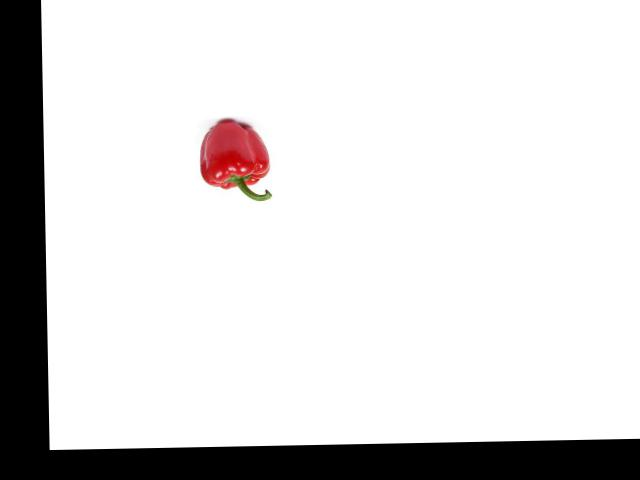bell_pepper: (193, 117, 275, 203)
